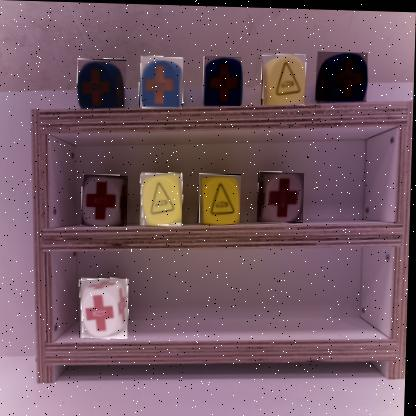CubeBlue: (317, 50, 370, 102), (79, 59, 129, 109), (141, 56, 186, 109), (204, 56, 244, 107)
CubeRed: (82, 278, 133, 340), (259, 171, 307, 223), (84, 175, 131, 228)
CubeYellow: (263, 52, 308, 106), (142, 172, 186, 227), (200, 173, 244, 225)
